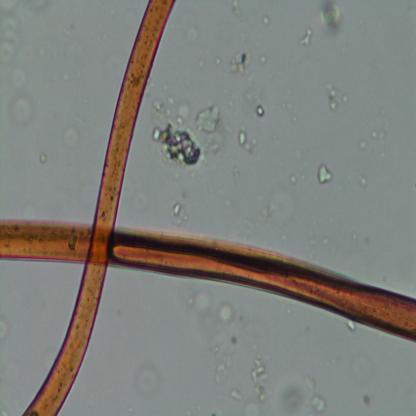Background material: (150, 121, 204, 173), (275, 370, 316, 414), (184, 286, 218, 334), (0, 2, 19, 79), (249, 354, 274, 406), (10, 90, 35, 128), (130, 364, 160, 394), (55, 119, 79, 156), (320, 1, 343, 38), (196, 103, 221, 136), (214, 348, 236, 384), (324, 84, 350, 113), (229, 51, 250, 78), (216, 300, 236, 328), (151, 96, 175, 118), (316, 162, 334, 187), (170, 202, 186, 228), (235, 130, 254, 151), (255, 195, 270, 220), (308, 394, 327, 412), (298, 26, 313, 47), (183, 26, 198, 46), (228, 386, 246, 402), (342, 313, 357, 332), (357, 132, 370, 151), (362, 390, 374, 410), (260, 13, 273, 28), (356, 173, 369, 187), (255, 103, 267, 117), (211, 54, 221, 68), (38, 150, 48, 164), (229, 332, 238, 347)
Microfibre: (18, 0, 177, 416), (0, 216, 416, 341)
